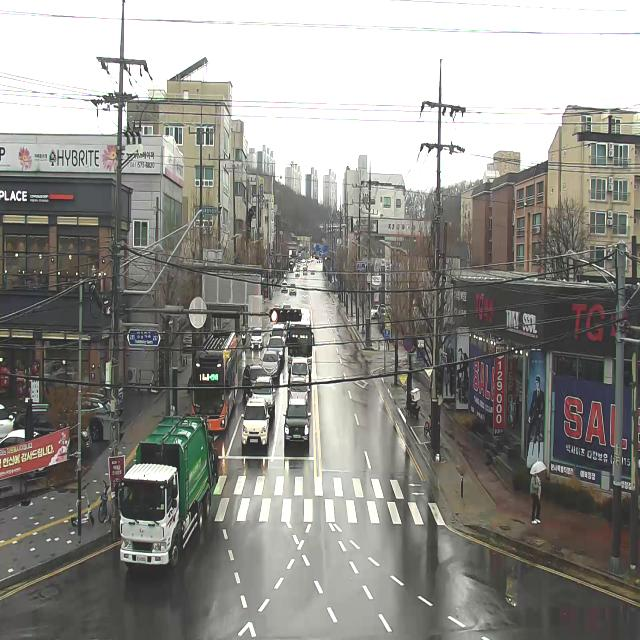Bus: (187, 329, 239, 430), (287, 308, 315, 374), (289, 258, 295, 273), (303, 266, 308, 276)
Car: (12, 412, 92, 460), (0, 429, 45, 478), (74, 392, 110, 442), (241, 396, 270, 449), (282, 398, 312, 447), (250, 374, 276, 412), (242, 364, 267, 397), (288, 376, 310, 410), (260, 351, 281, 378), (266, 336, 287, 363), (290, 356, 309, 384), (270, 323, 286, 345), (250, 328, 265, 350), (372, 304, 386, 319), (183, 332, 192, 347), (282, 302, 292, 310), (290, 284, 296, 296), (281, 282, 287, 292), (295, 268, 300, 277), (297, 261, 301, 268), (310, 269, 314, 275), (300, 259, 306, 263)
Truck: (115, 413, 219, 568)
